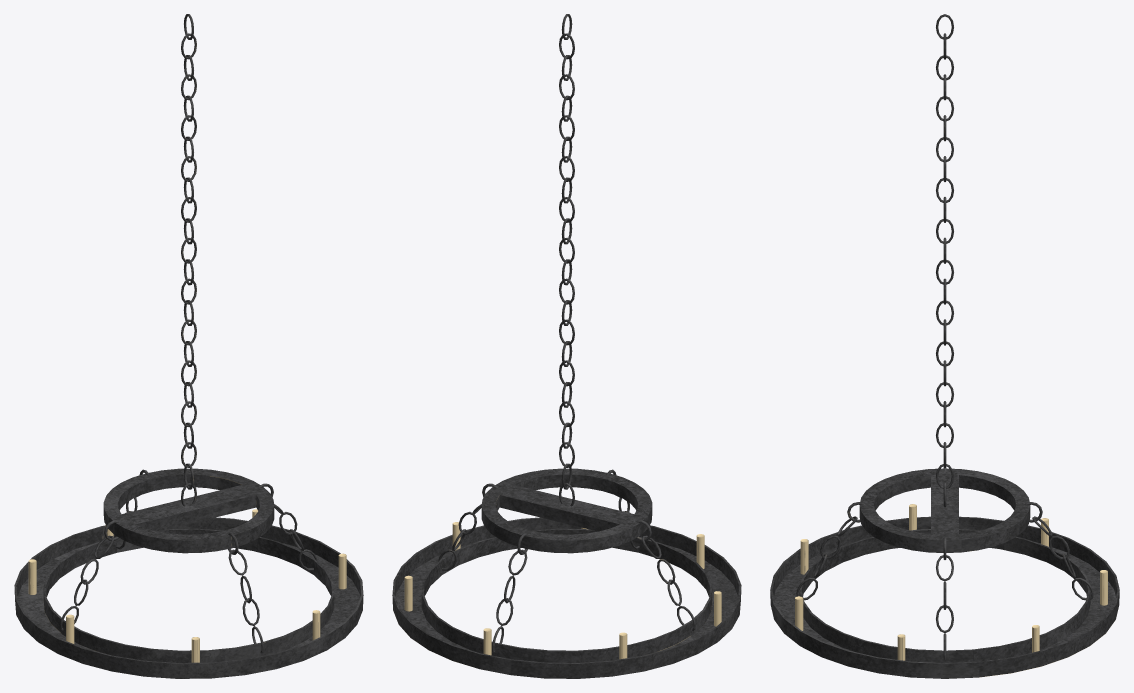
Rendered from uploads_files_5191776_Chandiler.fbx.
The picture shows the model from 3 angles, left to right: view 1: azimuth 30°, elevation 25°; view 2: azimuth 150°, elevation 25°; view 3: azimuth 270°, elevation 25°; orthographic projection.
Parts seen in each view (by area): view 1: Chandelier; view 2: Chandelier; view 3: Chandelier.
Boxes of the visible parts, x1,y1,x2,y2 form: Chandelier: (14,14,363,678); Chandelier: (392,14,741,678); Chandelier: (770,14,1119,678).
Size of the model in its own units: 155 by 290 by 155.
